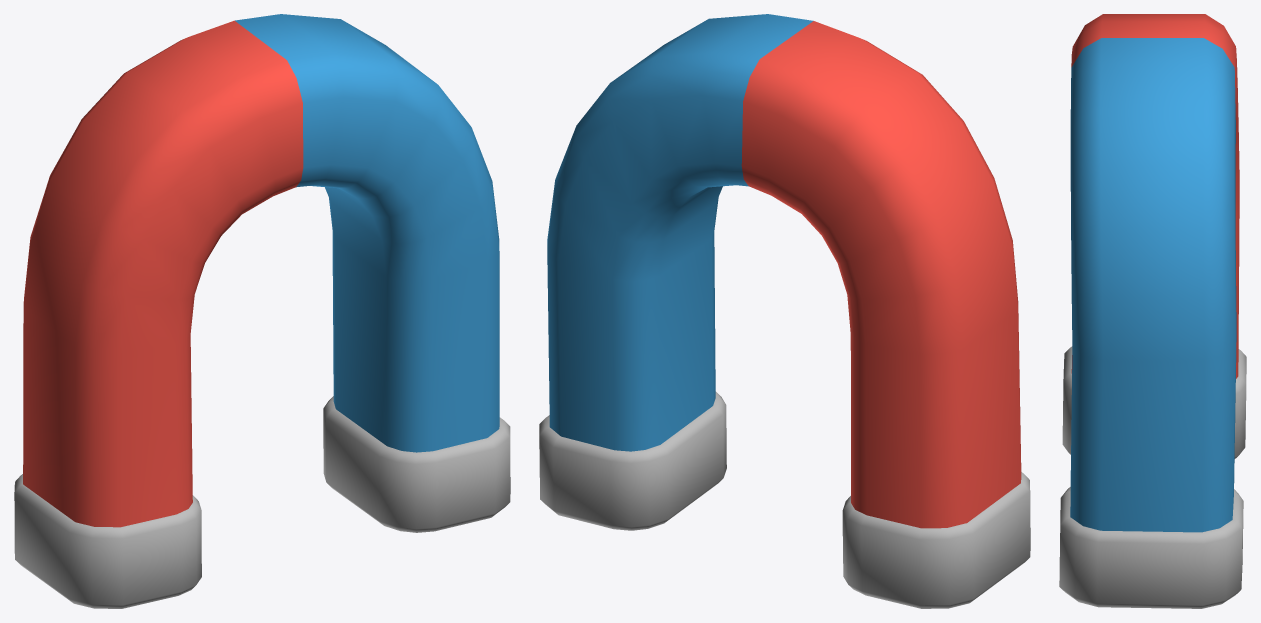
File: magnet (2).fbx
3 views of the same model, side by side, from view 1: azimuth 30°, elevation 25°; view 2: azimuth 150°, elevation 25°; view 3: azimuth 270°, elevation 25° (orthographic). The views are drawn at different scales.
Visible parts, largest first — view 1: Plane.004; view 2: Plane.004; view 3: Plane.004.
Boxes of the visible parts, left/top/right/bottom form: Plane.004: left=14, top=14, right=510, bottom=608; Plane.004: left=539, top=14, right=1030, bottom=608; Plane.004: left=1059, top=14, right=1246, bottom=608.
Bounding box in the file's own units: 45.74 × 49.31 × 17.61.
